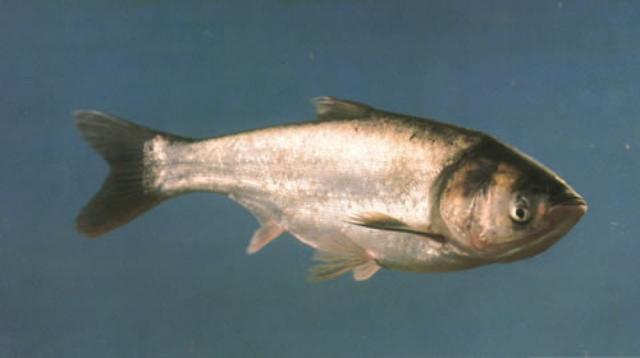Mulut: (544, 177, 600, 225)
Sirip Anal: (221, 181, 291, 261)
Sirip Dada: (354, 199, 446, 257)
Sirip Ekor: (59, 86, 181, 250)
Sirip Perut: (306, 226, 384, 286)
Sirip Punggung: (296, 78, 388, 128)
